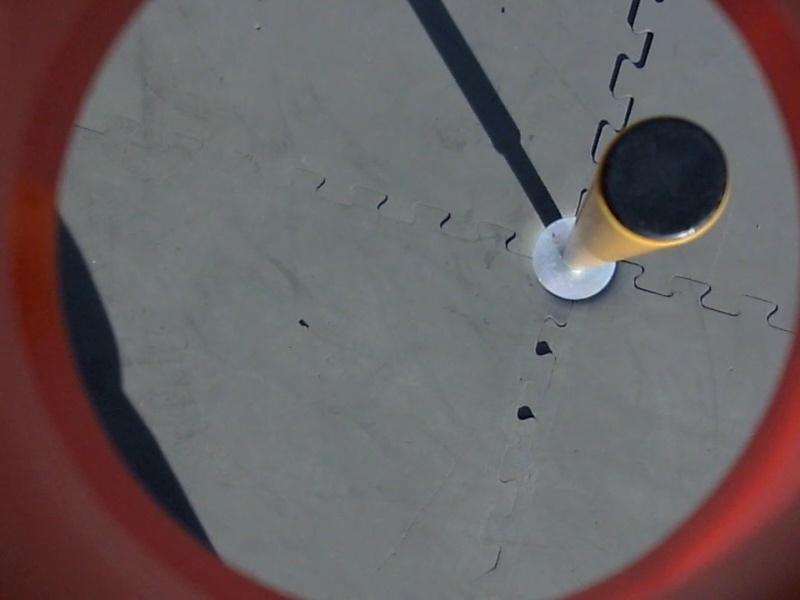tip: (591, 114, 739, 254)
